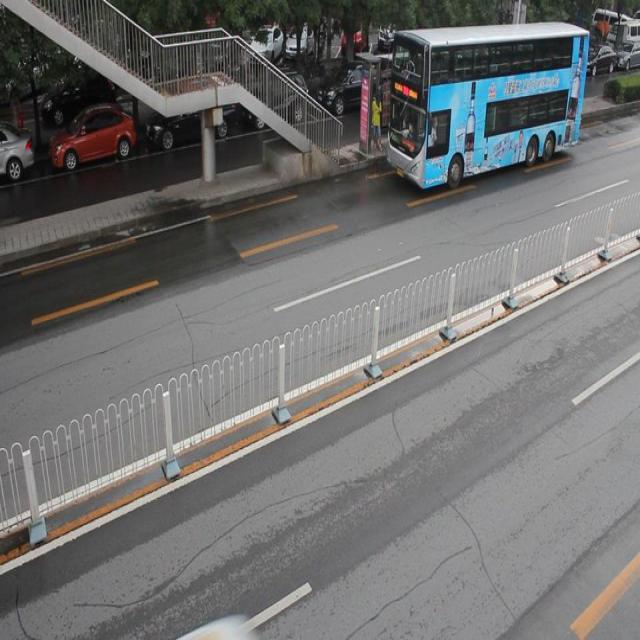car: (49, 105, 136, 172), (144, 93, 236, 150), (314, 62, 389, 122), (243, 72, 308, 129), (516, 61, 560, 113), (1, 126, 34, 181)
van: (386, 21, 589, 192)
